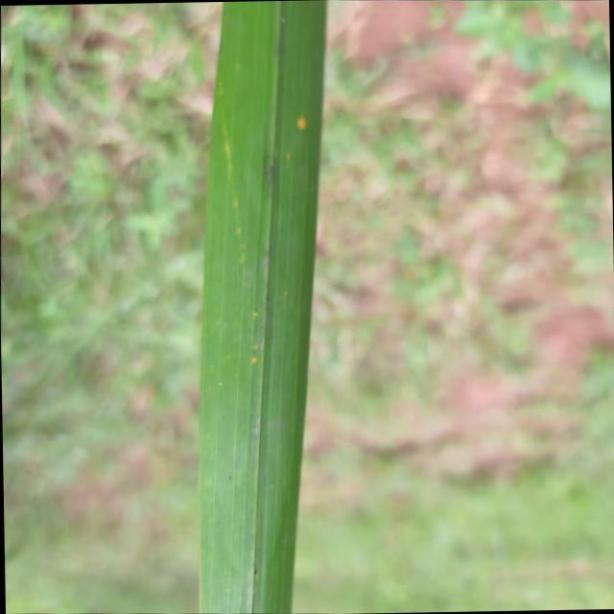Kalium: (198, 0, 328, 614)
